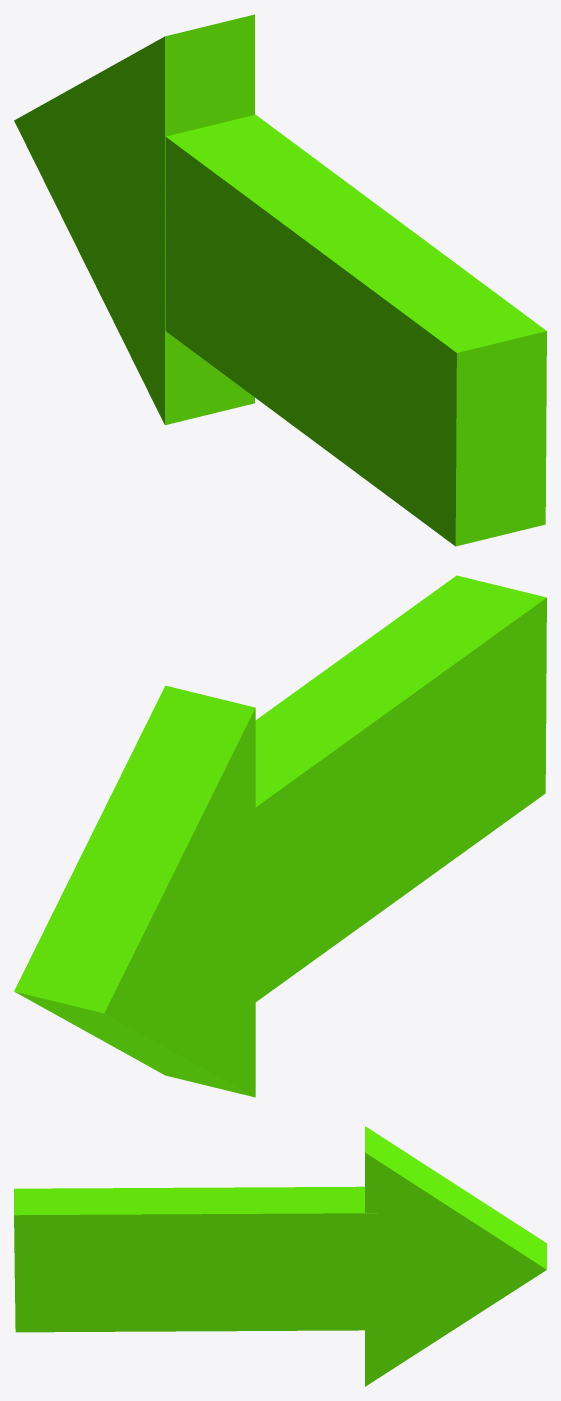
The model's file is arrow4.fbx.
The picture shows the model from 3 angles, top to bottom: view 1: azimuth 30°, elevation 25°; view 2: azimuth 150°, elevation 25°; view 3: azimuth 270°, elevation 25°; orthographic projection. The views are drawn at different scales.
Visible parts, largest first — view 1: Box; view 2: Box; view 3: Box.
Boxes of the visible parts, box(x1,y1,x2,y2) form: Box: box(14, 14, 546, 546); Box: box(14, 575, 546, 1097); Box: box(14, 1126, 546, 1386).
Bounding box in the file's own units: 28.83 × 118 × 243.
